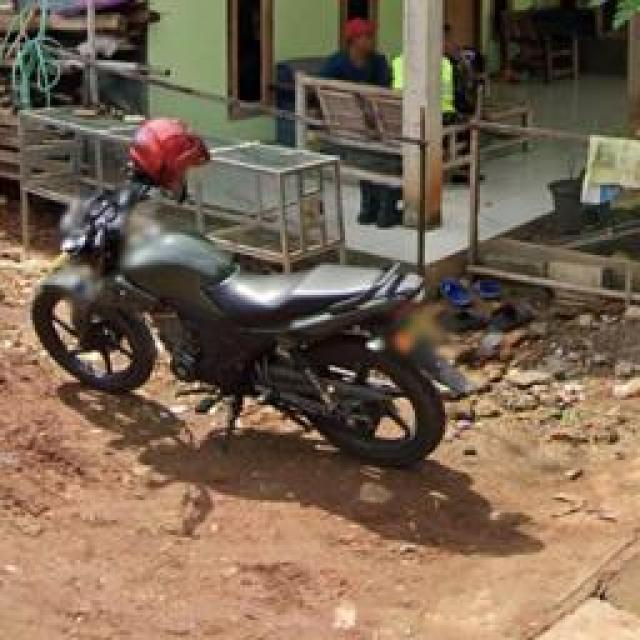motorbike: (30, 116, 446, 467)
